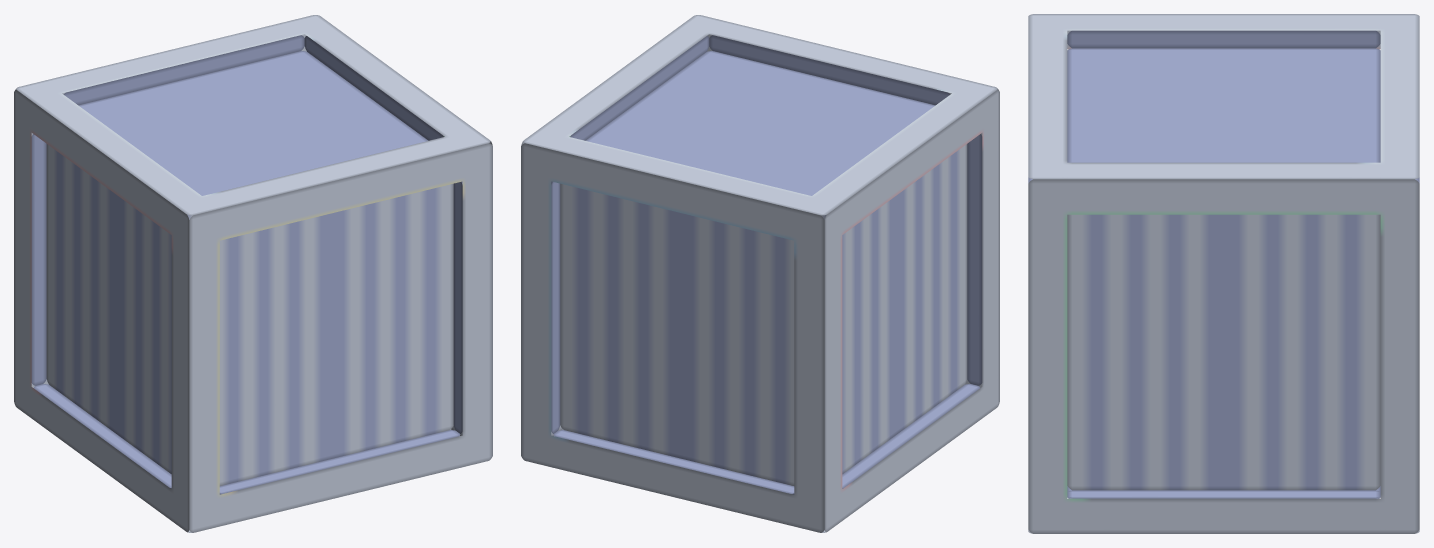
Rendered from BoxCannon3000.fbx.
The picture shows the model from 3 angles, left to right: view 1: azimuth 30°, elevation 25°; view 2: azimuth 150°, elevation 25°; view 3: azimuth 270°, elevation 25°; orthographic projection. The views are drawn at different scales.
Parts seen in each view (by area): view 1: cuboid; view 2: cuboid; view 3: cuboid.
Part boxes in pixels (box(x1,y1,x2,y2)): cuboid: box(14, 15, 492, 532); cuboid: box(521, 15, 999, 532); cuboid: box(1028, 14, 1419, 533).
Size of the model in its own units: 125 by 125 by 125.
1 material, 1 textured.
